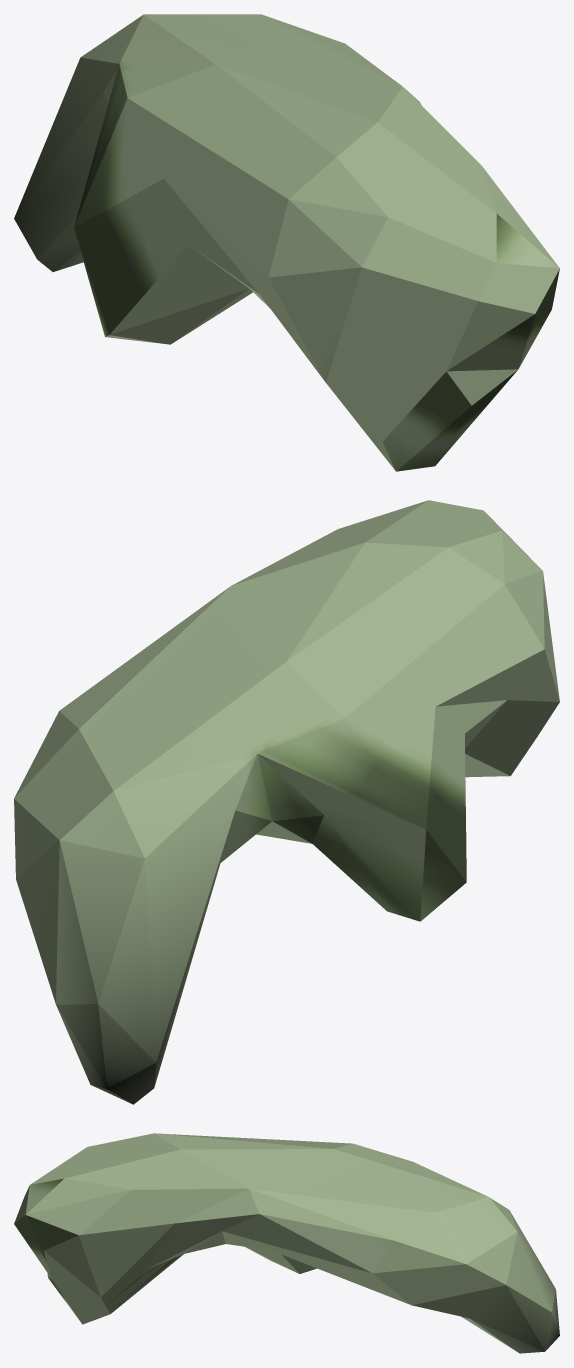
Rendered from EA_Swamp_Moss_01a.glb.
The picture shows the model from 3 angles, top to bottom: view 1: azimuth 30°, elevation 25°; view 2: azimuth 150°, elevation 25°; view 3: azimuth 270°, elevation 25°; orthographic projection. The views are drawn at different scales.
Visible parts, largest first — view 1: EA_Swamp_Moss_01a; view 2: EA_Swamp_Moss_01a; view 3: EA_Swamp_Moss_01a.
Part boxes in pixels (left/top/right/bottom): EA_Swamp_Moss_01a: left=14, top=14, right=559, bottom=471; EA_Swamp_Moss_01a: left=14, top=500, right=559, bottom=1104; EA_Swamp_Moss_01a: left=14, top=1133, right=559, bottom=1353.
Bounding box in the file's own units: 1.26 × 1.25 × 2.84.
1 material, 1 textured.
